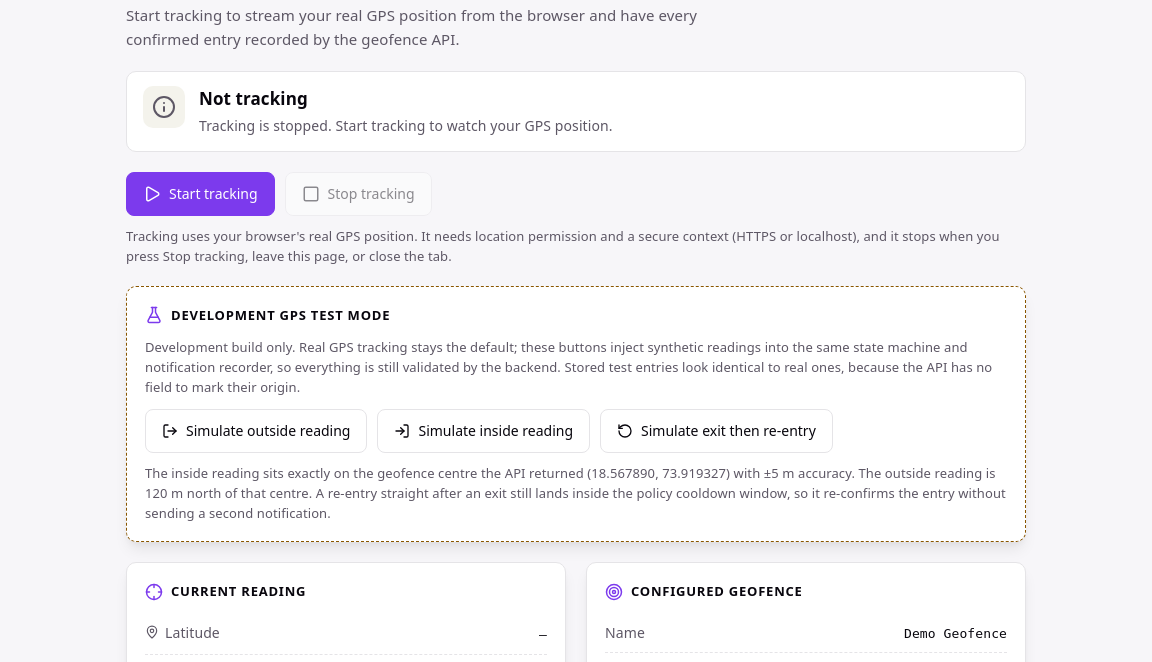
VisitorTrackingPage › records a confirmed entry with the exact payload and waits for the backend
Click the button "Start tracking".
click(200, 194)  # box top-left (126, 172), bottom-right (275, 216)
(page scrolled)
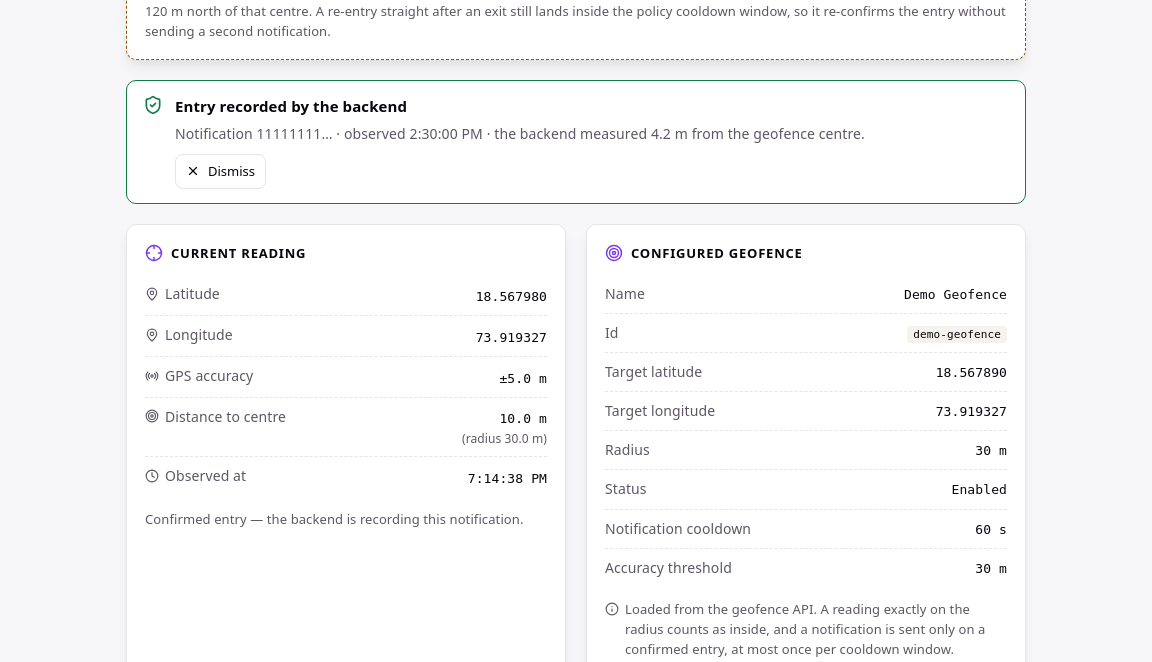
expect the text "demo-geofence" is shown: met, box top-left (907, 326), bottom-right (1007, 343)
expect the text "Entry recorded by the backend" is shown: met, box top-left (175, 96), bottom-right (407, 116)
